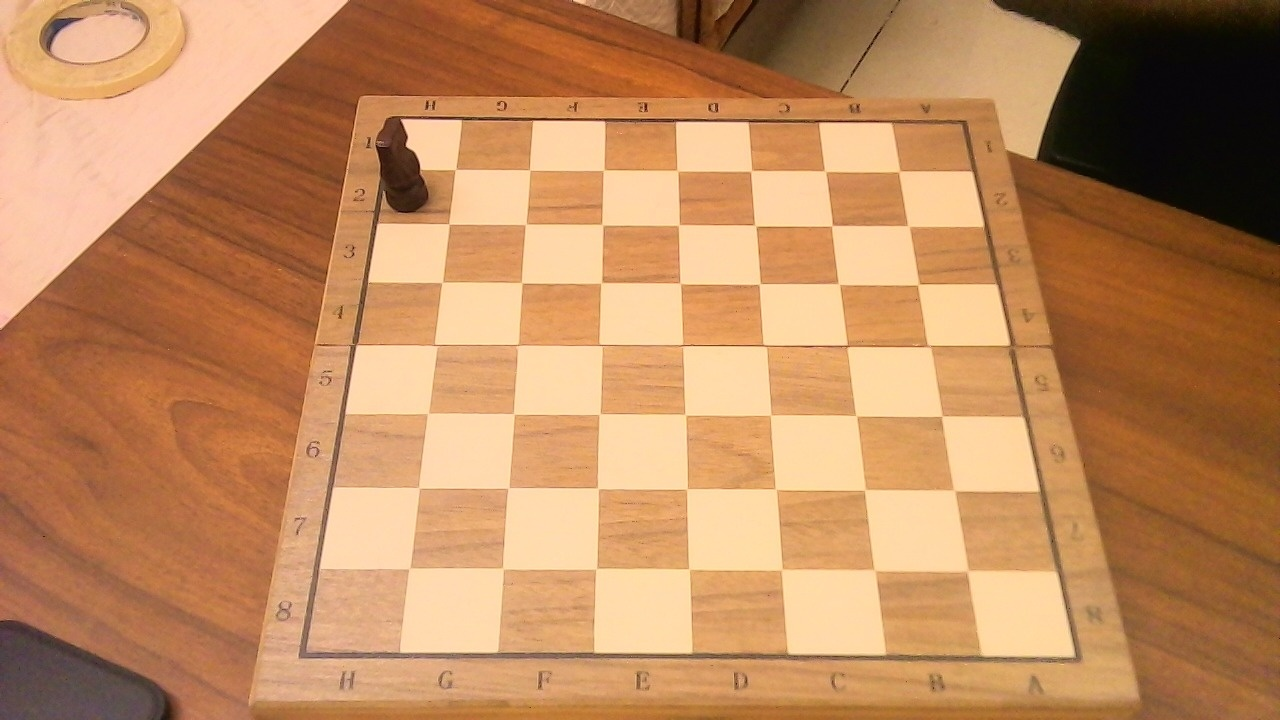n: (370, 113, 442, 221)
